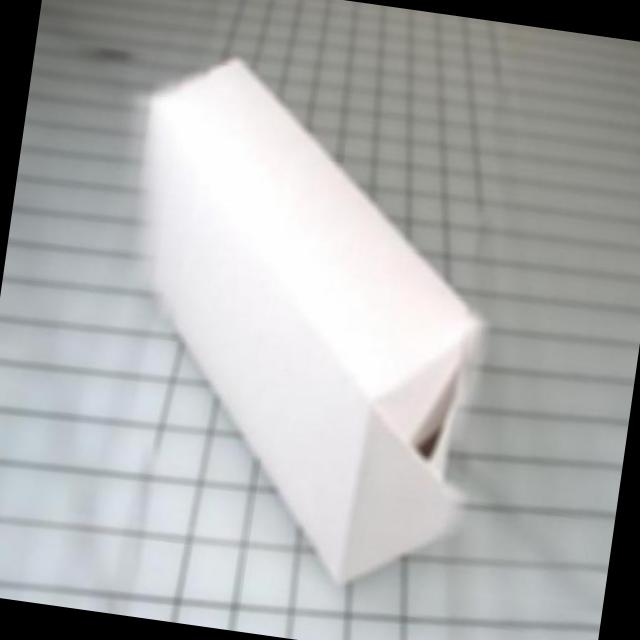box: (70, 40, 568, 589)
